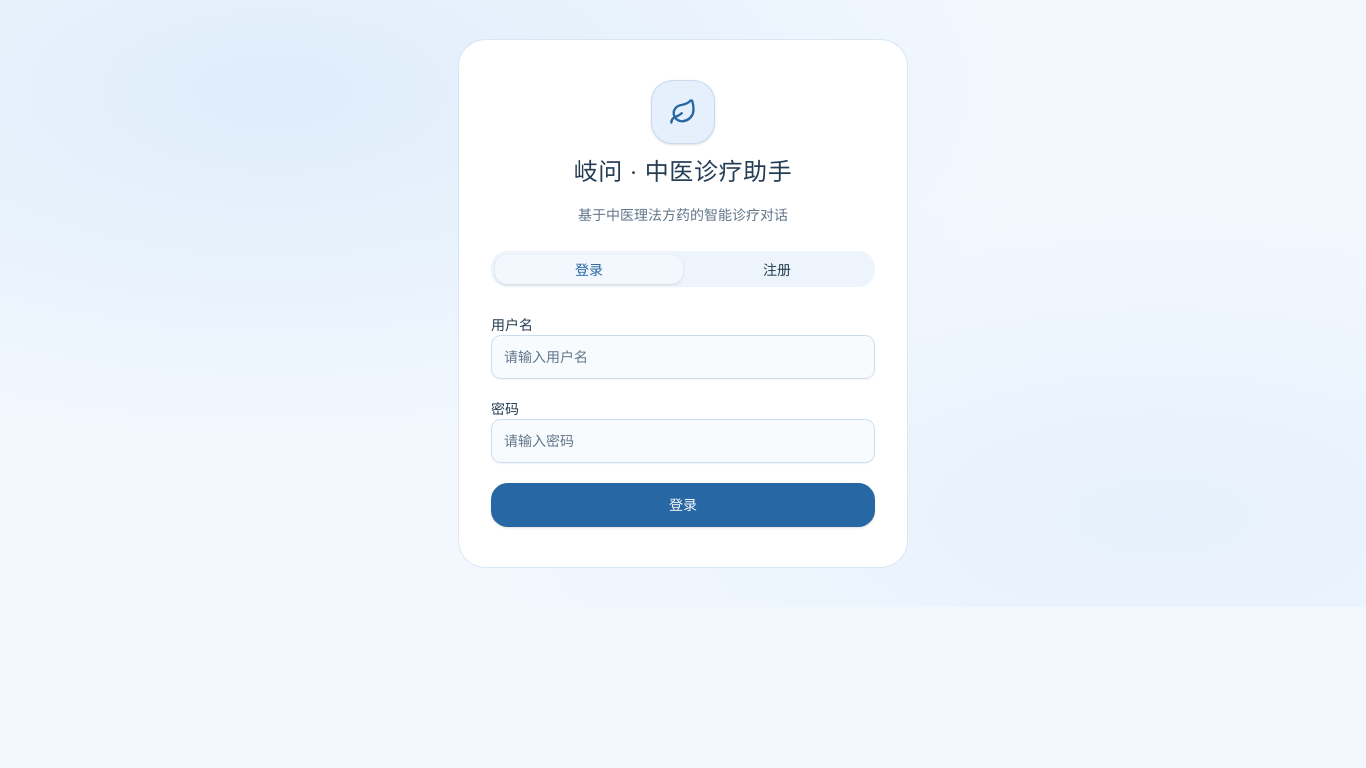
login failure feedback › shows the API credential error without clearing auth or redirecting
The image size is (1366, 768).
Type "legacy_test" into the field labelled "用户名" at (683, 357), box 491,335 -> 875,379
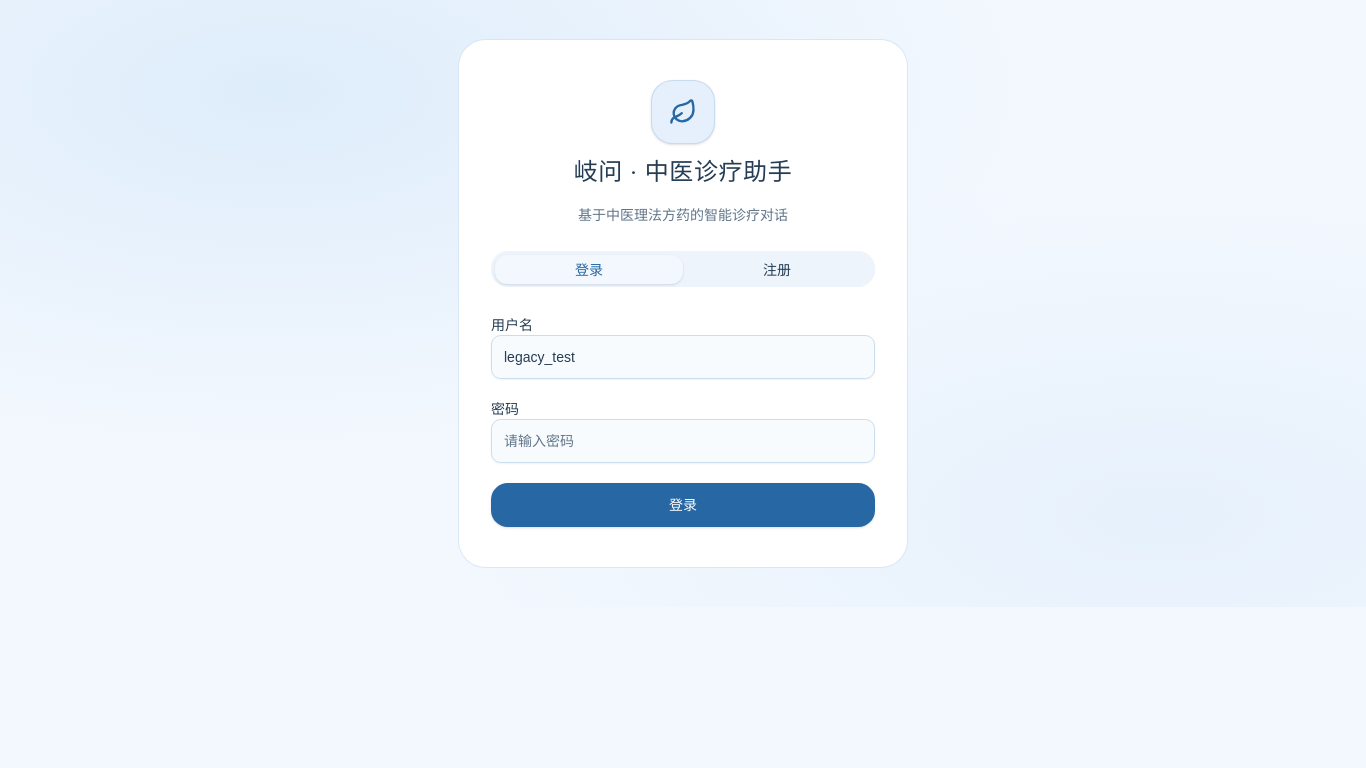
Type "wrong-password" into the password field labelled "密码" at (683, 441), box 491,419 -> 875,463
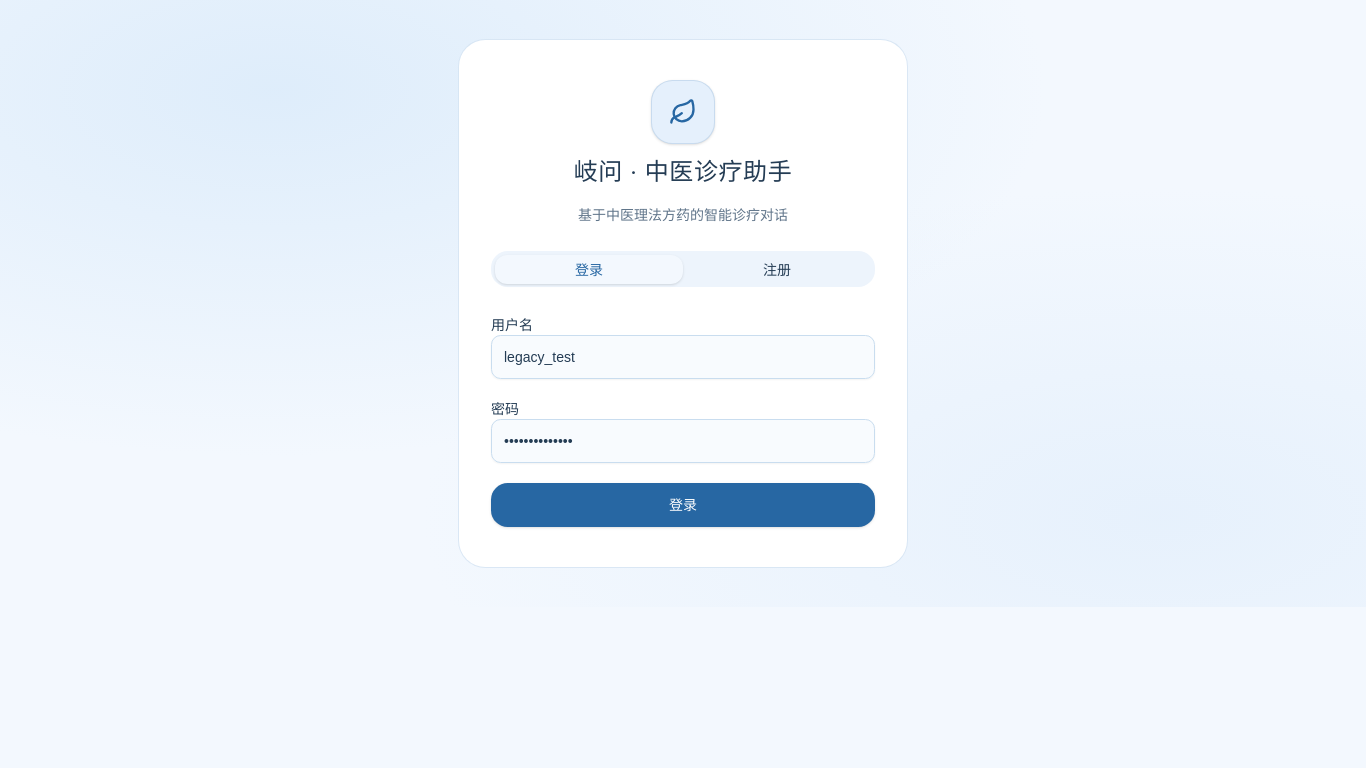
Click the button "登录" at (683, 505), box 491,483 -> 875,527
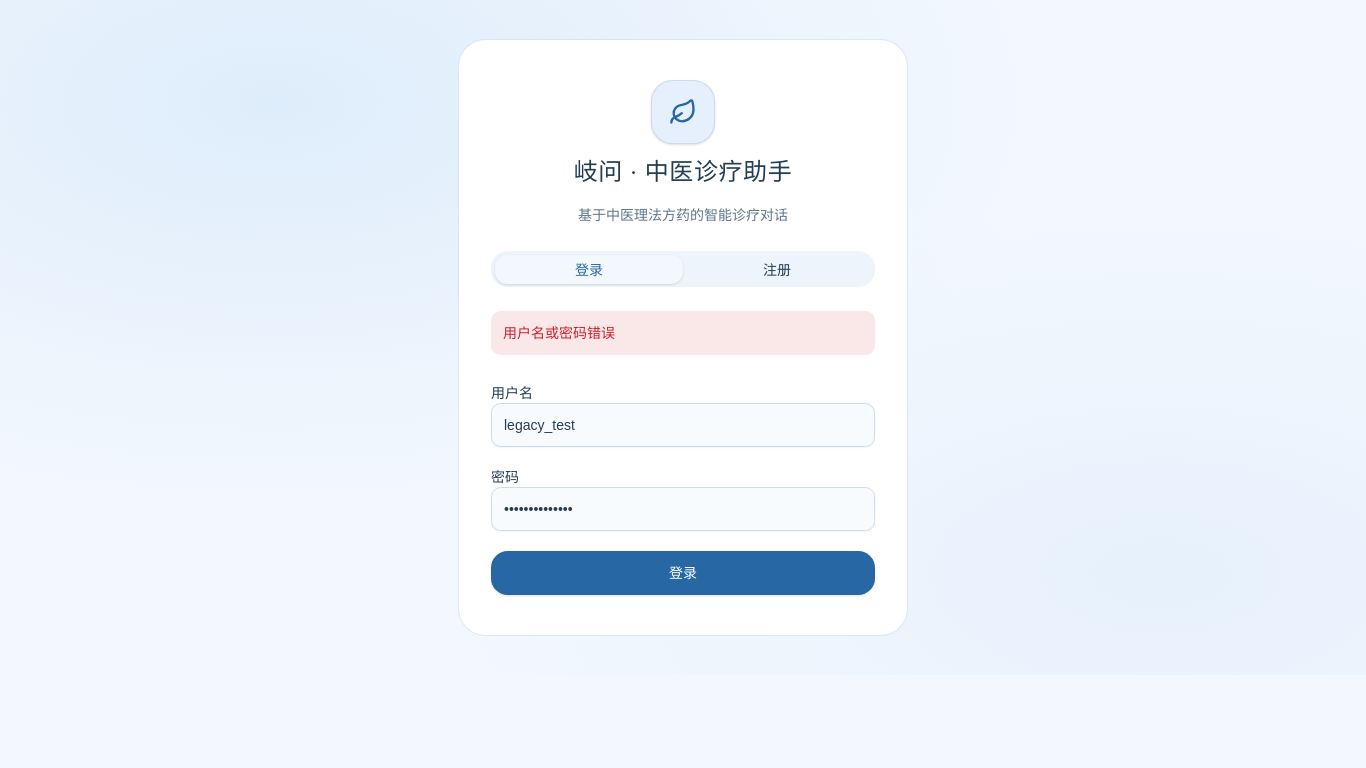
Result: the message reads "用户名或密码错误" at 503,325 -> 615,341
